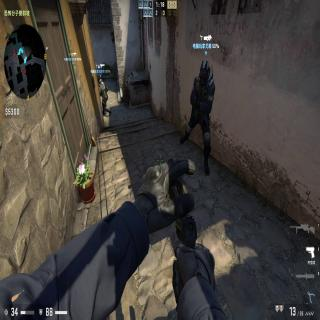CT-Body: (178, 59, 215, 177), (98, 79, 111, 117)
CT-Head: (199, 59, 209, 83), (98, 79, 103, 85)
